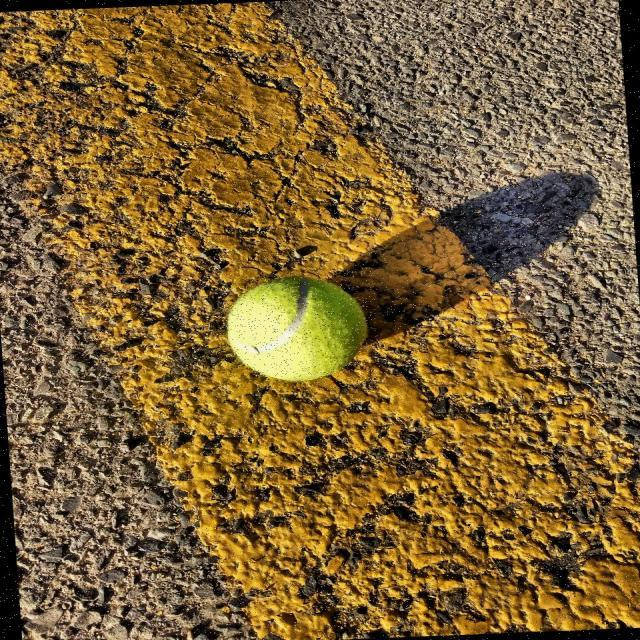tennis-ball: (216, 268, 381, 393)
